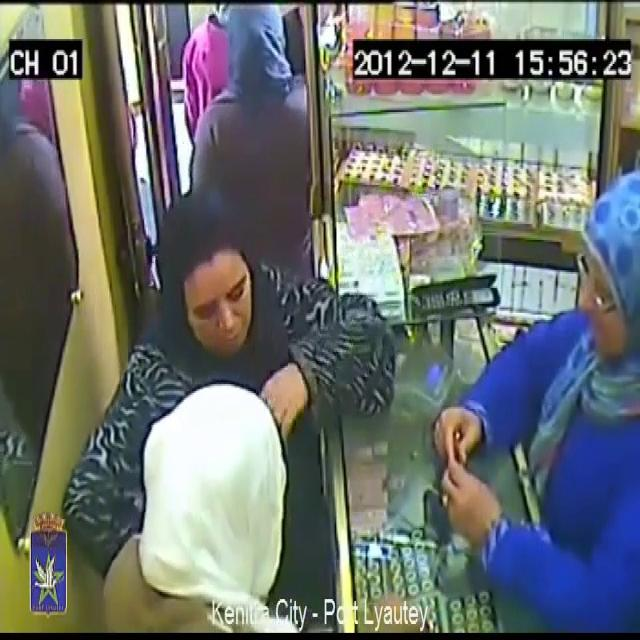Product: (438, 431, 464, 487)
normal: (105, 364, 323, 640), (165, 182, 270, 360), (195, 0, 295, 175)
shoplifting: (382, 144, 640, 627)
